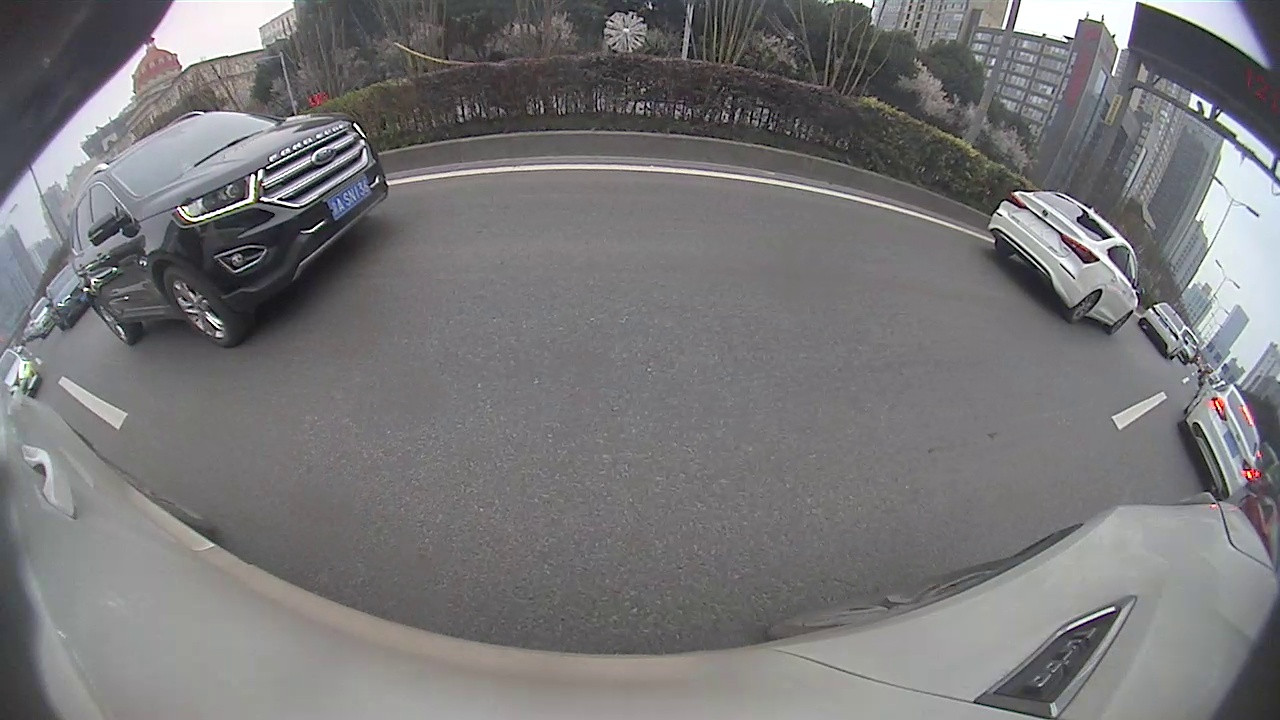car: (68, 109, 391, 350), (985, 189, 1147, 338), (1176, 377, 1261, 502), (42, 265, 89, 333), (1138, 302, 1190, 361)
front: (164, 267, 235, 346)
rear: (92, 300, 132, 346), (1071, 291, 1102, 322)
